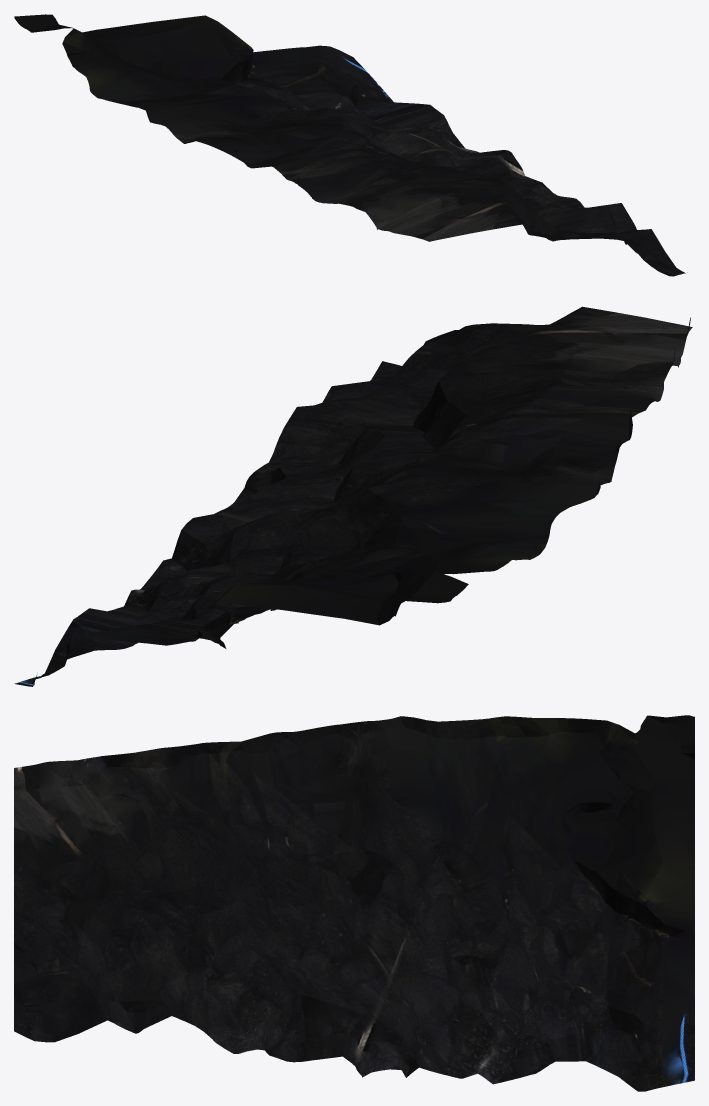
The picture shows the model from 3 angles, top to bottom: view 1: azimuth 30°, elevation 25°; view 2: azimuth 150°, elevation 25°; view 3: azimuth 270°, elevation 25°; orthographic projection. The views are drawn at different scales.
Bounding box in the file's own units: 2.81 × 1.24 × 4.18.
2 materials, 2 textured.
